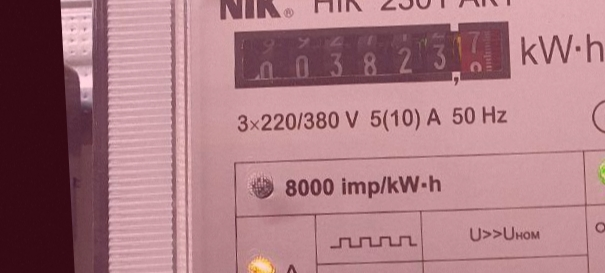0: (290, 49, 311, 77), (256, 55, 275, 79)
2: (395, 42, 415, 75)
3: (430, 39, 449, 70), (326, 46, 345, 76)
7: (466, 27, 483, 56)
8: (360, 47, 378, 76)
9: (257, 34, 276, 54)
screen: (224, 11, 516, 97)
